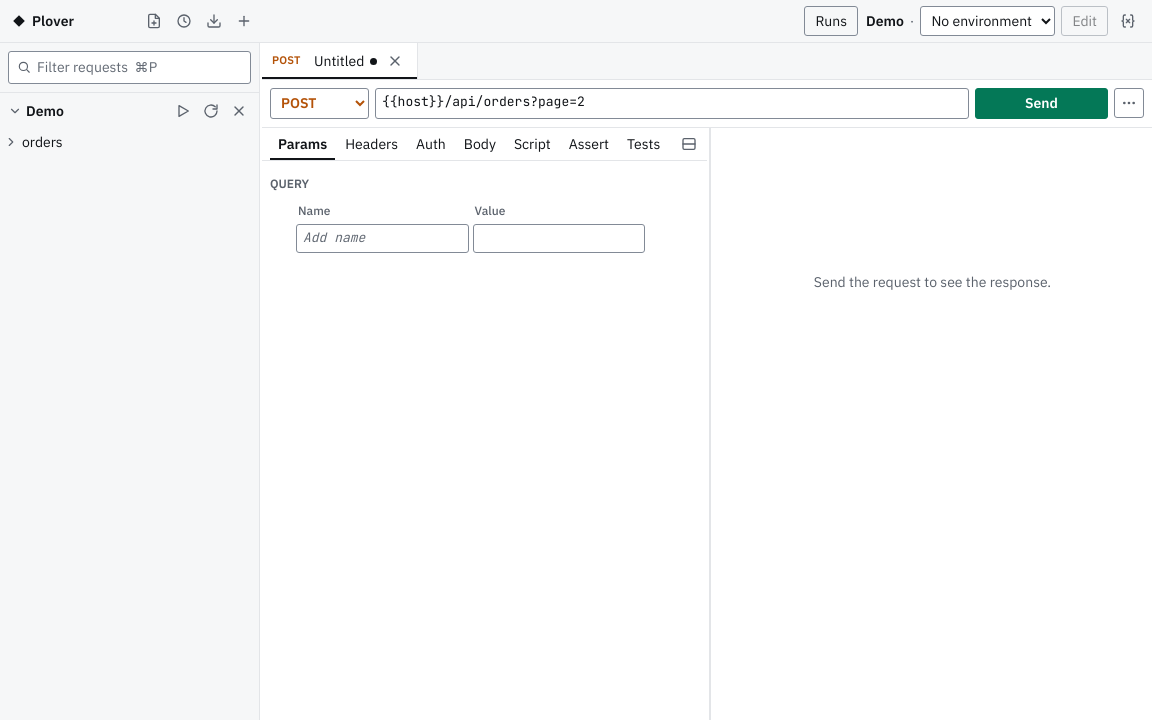
it: scratch requests › save on scratch opens dialog with prefilled name
The image size is (1152, 720).
Click the button named "More request actions" at (1129, 103), box [1114,88,1144,118]
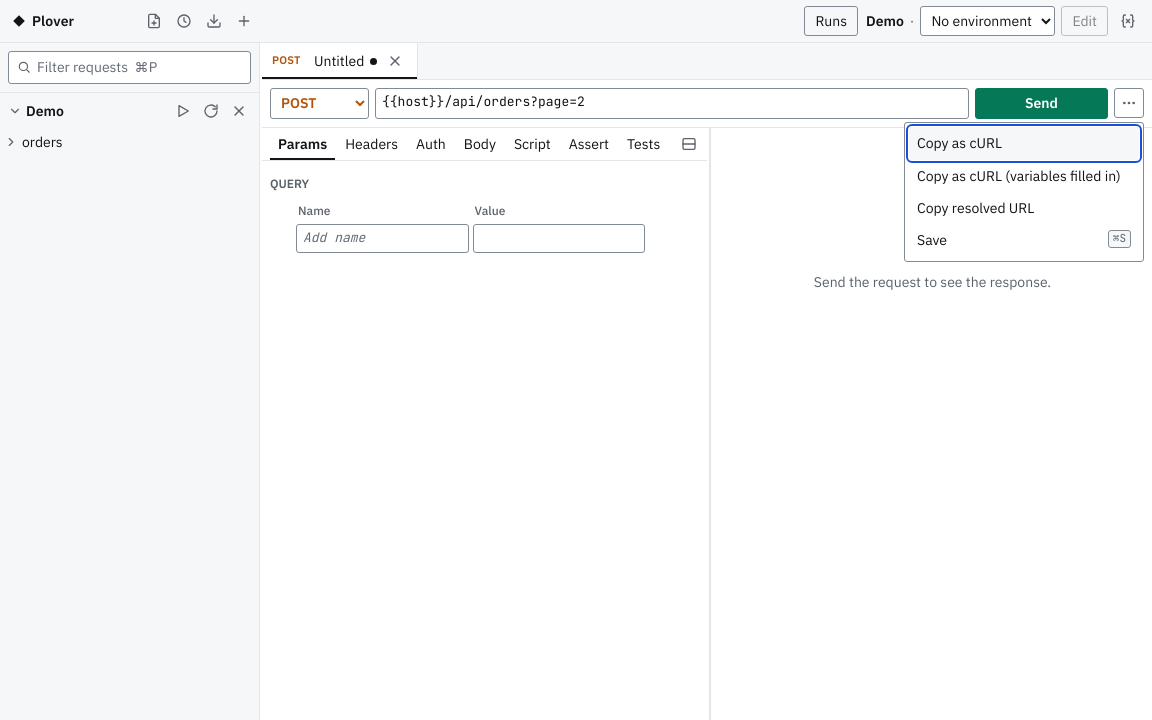
Click the menu item "Save ⌘S" at (1024, 240), box [909,224,1139,257]
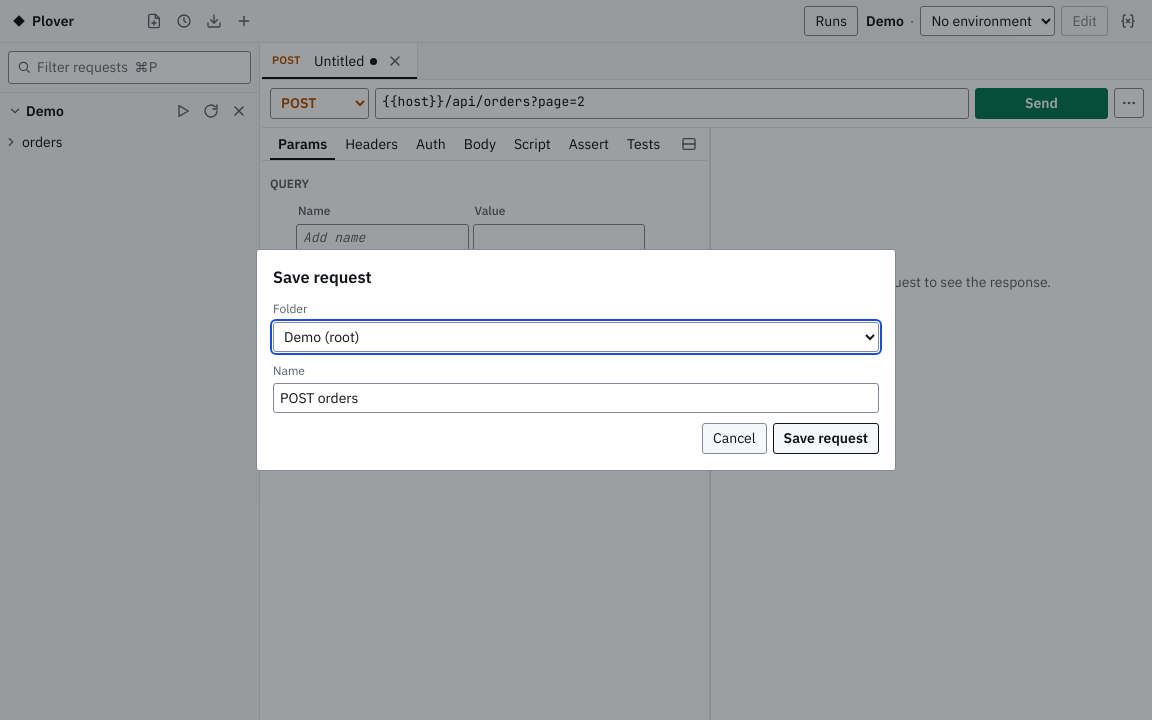
Check: the dialog "Save request" is shown, box [256,249,896,470]
Check: the field labelled "Name" holds "POST orders", box [273,383,879,413]
Select "orders" in the dropdown labelled "Folder" at (576, 337), box [273,322,879,352]
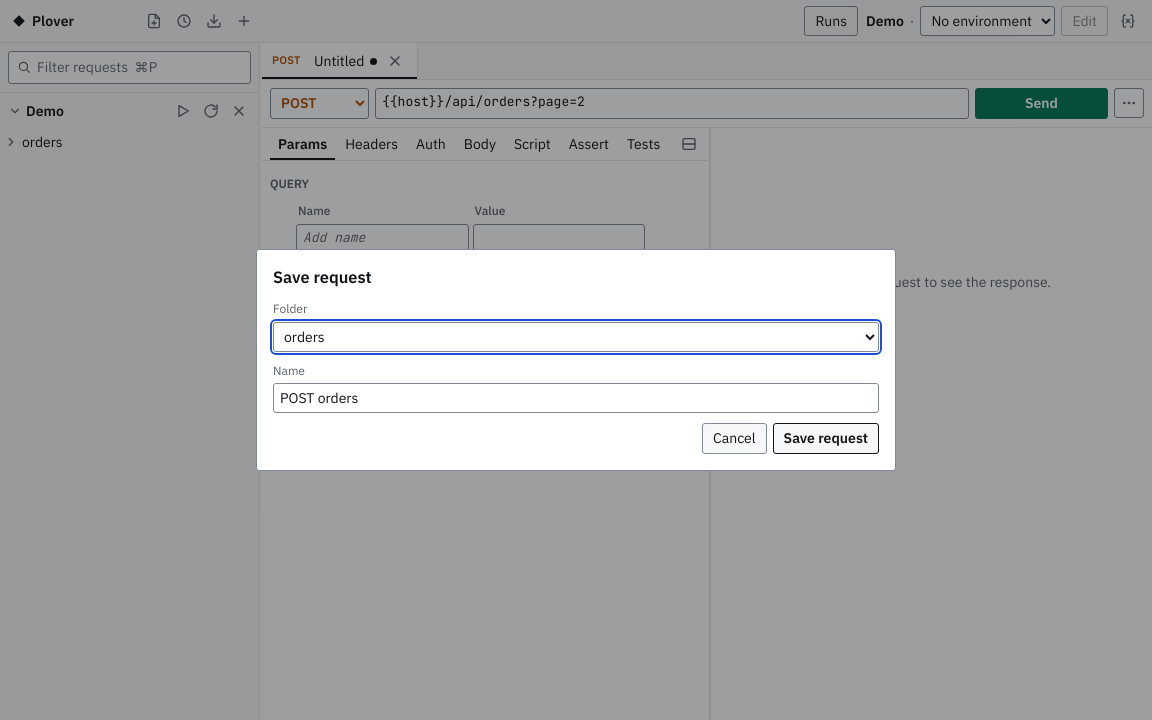
Click the button "Save request" at (826, 438), box [773,423,879,454]
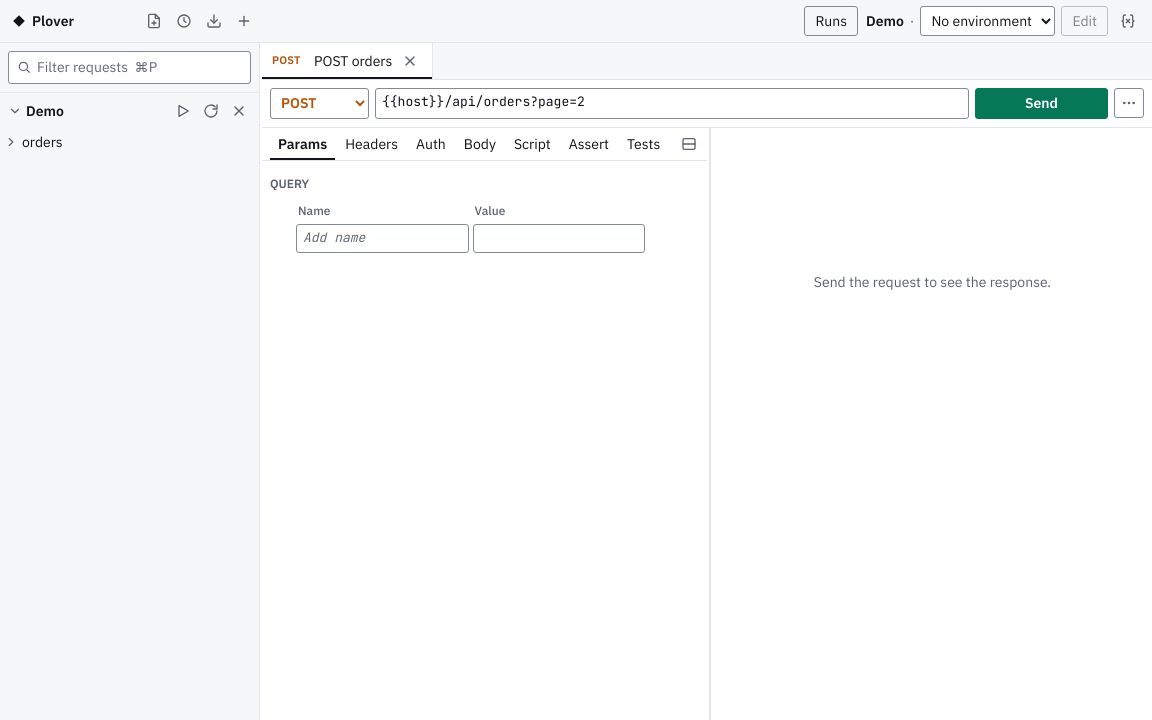
Check: the dialog is gone
